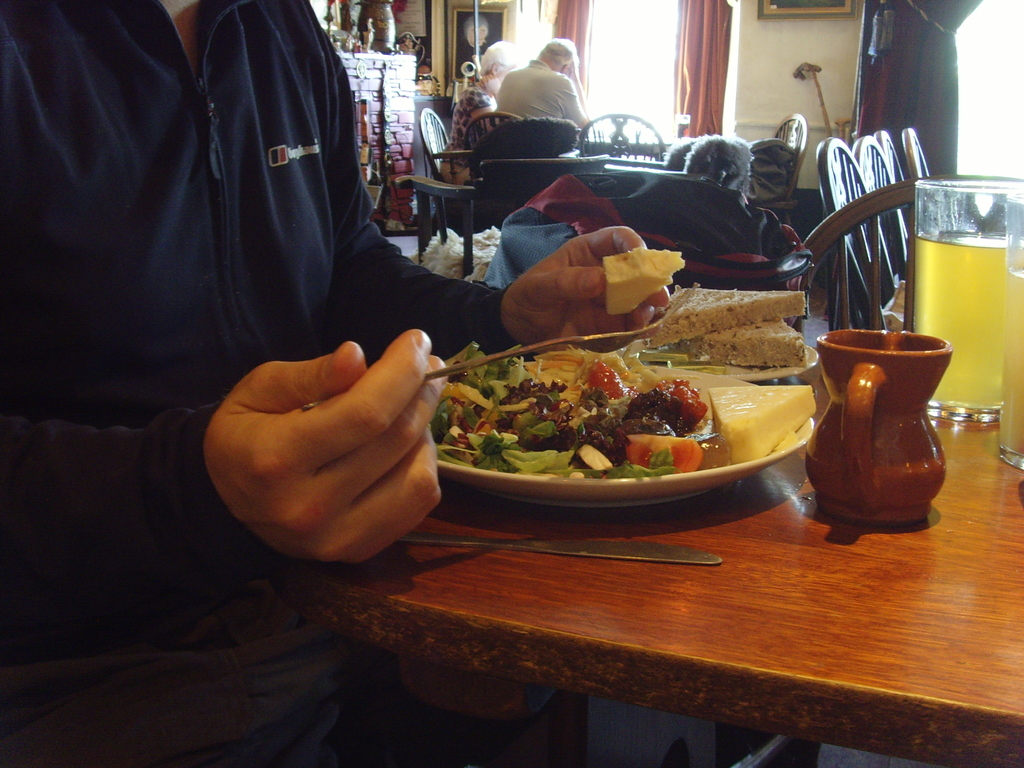salad: (422, 350, 743, 504)
